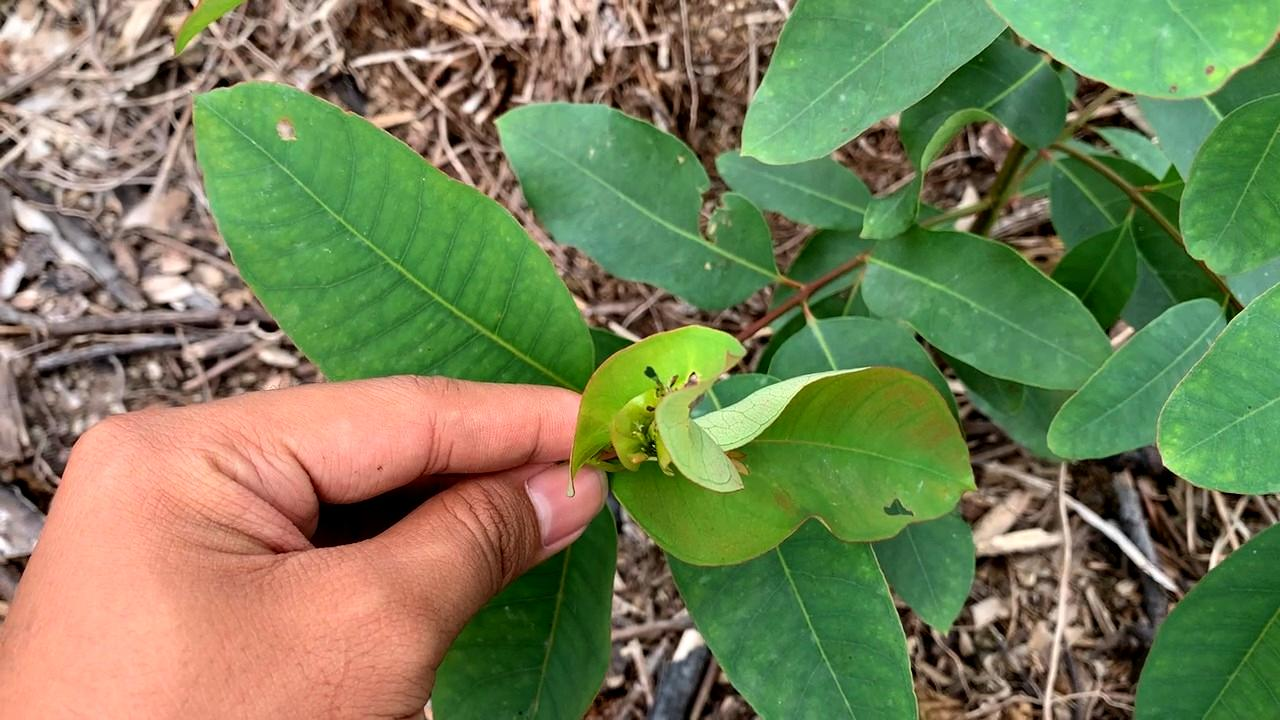Leaf Roller - Leaf: (563, 323, 754, 522)
